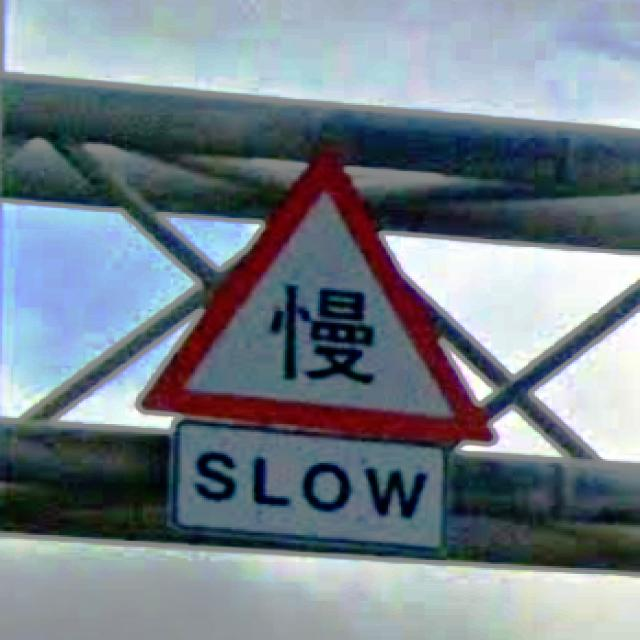slow: (133, 146, 500, 447)
